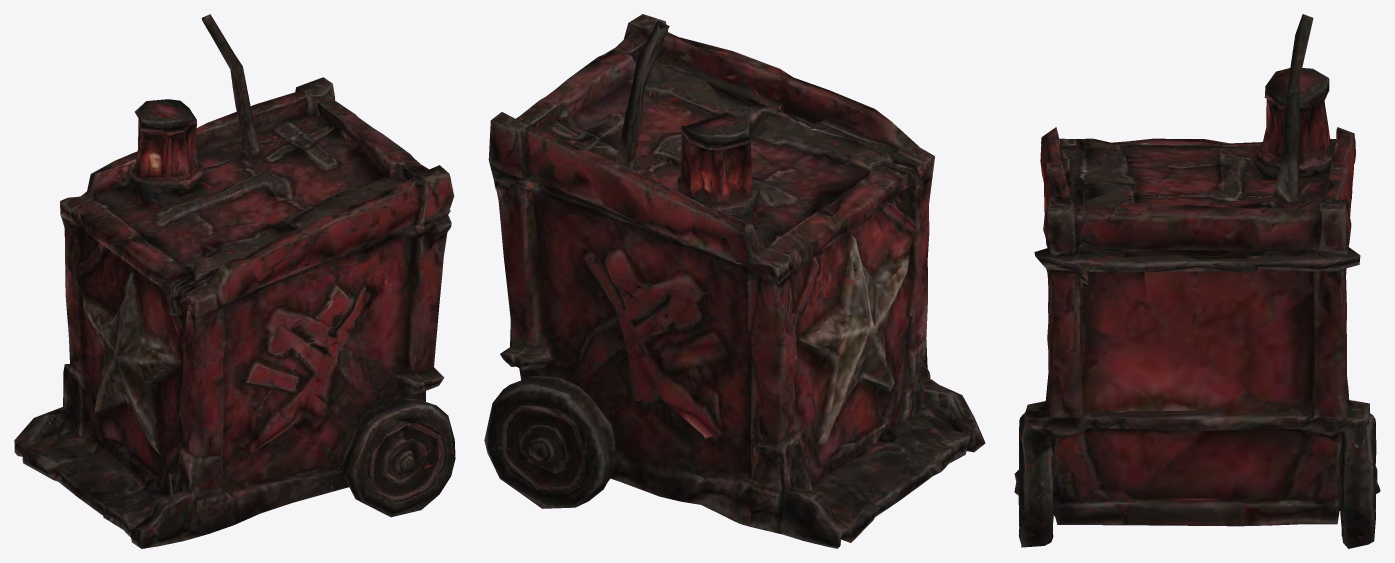
File: starbox.glb
3 views of the same model, side by side, from view 1: azimuth 30°, elevation 25°; view 2: azimuth 150°, elevation 25°; view 3: azimuth 270°, elevation 25° (orthographic). The views are drawn at different scales.
Bounding box in the file's own units: 150 × 190 × 129.
1 material, 1 textured.
